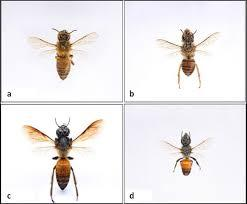Apis-mellifera-scutellata: (27, 114, 106, 200), (146, 21, 213, 90), (28, 22, 92, 79), (168, 125, 216, 177)
